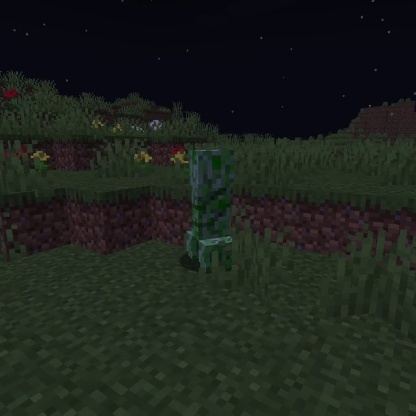creeper: (183, 147, 236, 274)
